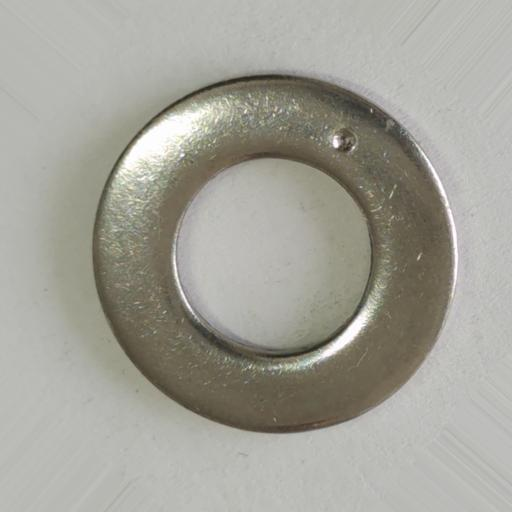circular_cavity: (333, 129, 357, 152)
